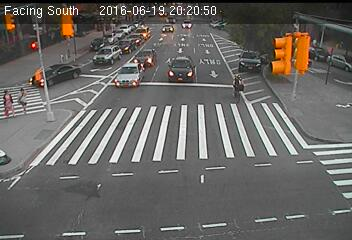neg: (222, 69, 252, 110), (101, 61, 125, 93), (124, 66, 146, 95), (87, 73, 104, 97), (70, 84, 87, 106), (57, 45, 71, 64), (34, 73, 46, 88)
pos: (9, 83, 35, 117)
